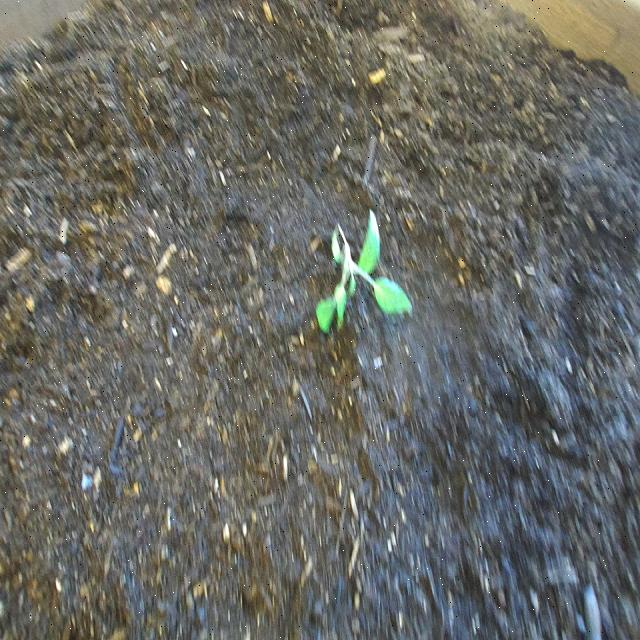Unhealthy: (312, 198, 414, 351)
